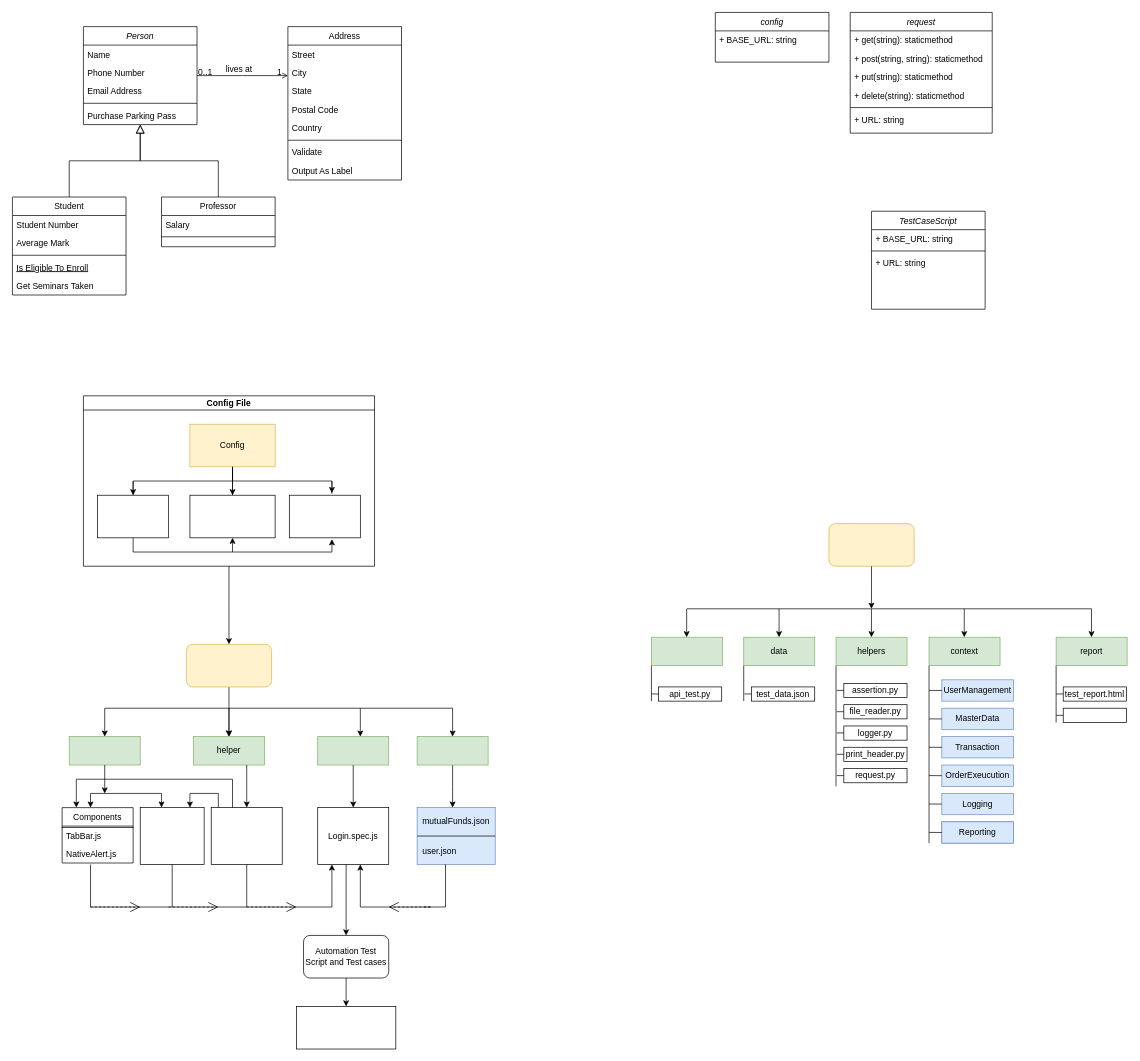
Image size: 1140x1061. Some labels were removed from this diagram. Here are the shapes that lost their labels. From the top down, the centre of each, then its label:
At (x=133, y=516): "wdio.config.js".
At (x=232, y=516): "android.config.js".
At (x=324, y=516): "iOS.config.js".
At (x=871, y=544): "Api-tesing-framework".
At (x=229, y=665): "Test".
At (x=686, y=651): "tests".
At (x=1094, y=715): "test_report.log".
At (x=104, y=750): "pages".
At (x=353, y=750): "specs".
At (x=452, y=750): "testData".
At (x=172, y=835): "LoginScreen.js".
At (x=246, y=835): "ActionHelper.js".
At (x=346, y=1027): "Test Report Allure Report(index.html)".
